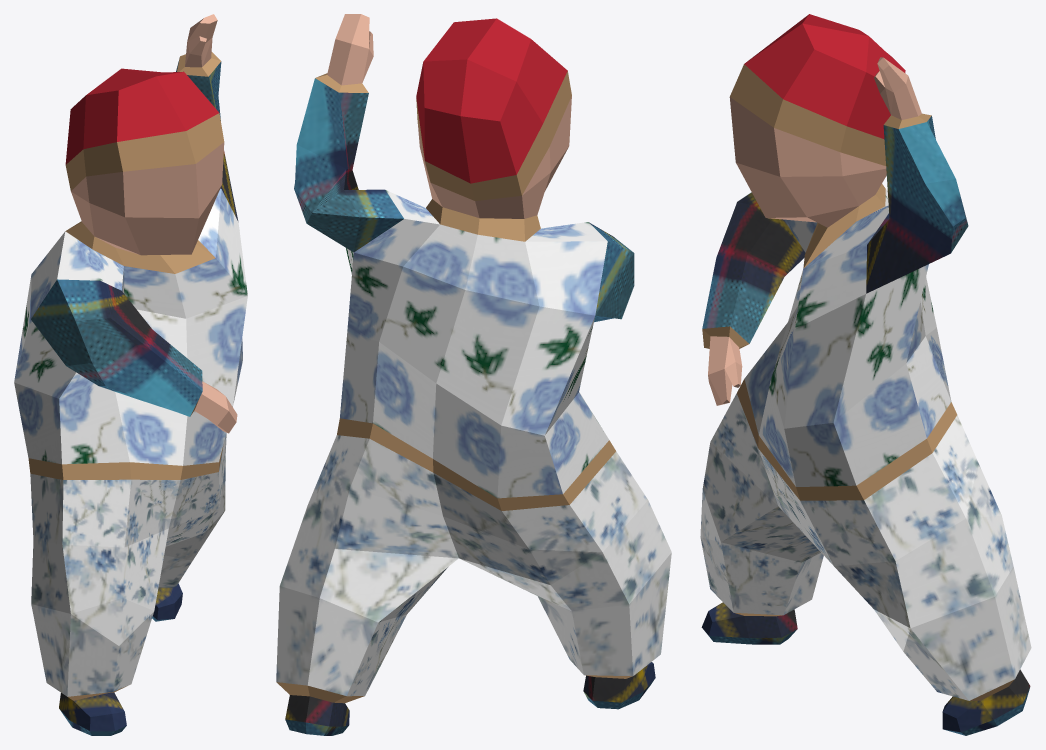
File: SpringBaby.009.glb
3 views of the same model, side by side, from view 1: azimuth 30°, elevation 25°; view 2: azimuth 150°, elevation 25°; view 3: azimuth 270°, elevation 25° (orthographic). The views are drawn at different scales.
Parts seen in each view (by area): view 1: SpringBaby.009; view 2: SpringBaby.009; view 3: SpringBaby.009.
Part boxes in pixels (<box>): SpringBaby.009: <box>14,14,247,735</box>; SpringBaby.009: <box>276,14,671,735</box>; SpringBaby.009: <box>700,14,1031,735</box>.
Bounding box in the file's own units: 0.2372 × 0.5863 × 0.2596.
Materials: 1 (1 with a texture image).
